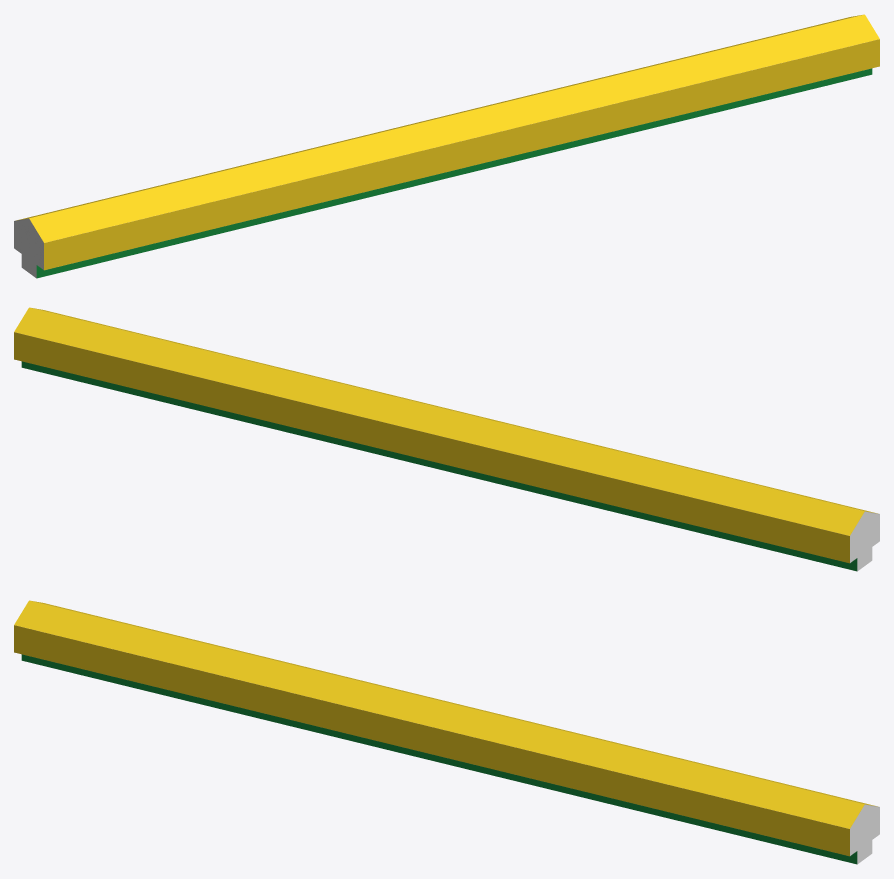
3 renders of one model, top to bottom at view 1: azimuth 30°, elevation 25°; view 2: azimuth 150°, elevation 25°; view 3: azimuth 330°, elevation 25°, orthographic.
Parts seen in each view (by area): view 1: sewer; view 2: sewer; view 3: sewer.
Part boxes in pixels (bbox=[...]): sewer: bbox=[14, 14, 879, 278]; sewer: bbox=[14, 307, 879, 571]; sewer: bbox=[14, 600, 879, 864].
Size of the model in its own units: 64 by 4 by 4.
